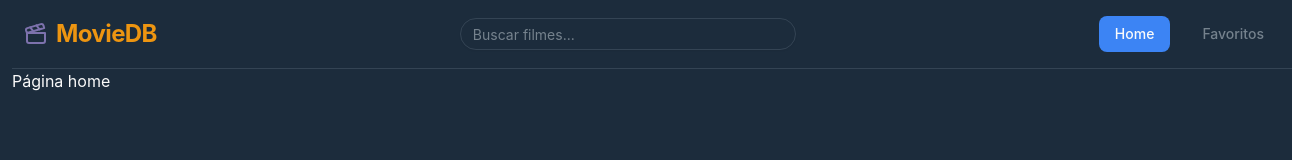
Test: Navbar › should navigate to route
Click the link "Favoritos". click: (1233, 34)
box: [1202,25,1264,42]
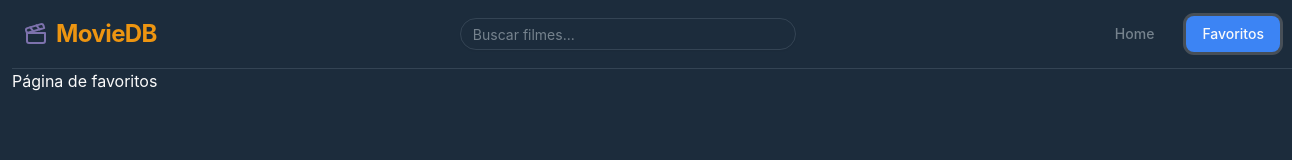
Result: the heading "Página de favoritos" is shown at [12,71,157,91]
Click the link "Home". click: (1135, 34)
box: [1115,25,1154,42]
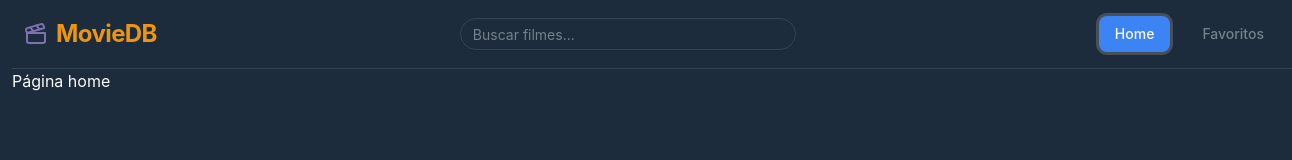
Result: the text "Página home" is shown at [12,71,110,91]
